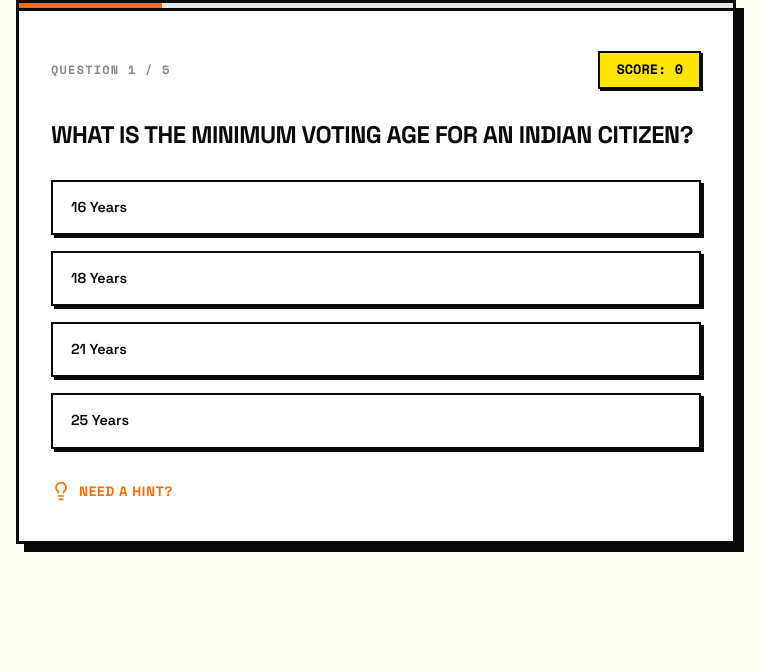
it: Quiz Component — Hint Feature › requests and displays a hint
What coordinates should you click on to do the following:
click the button "NEED A HINT?"
I would click on:
 (112, 491)
Its box is [51, 480, 173, 502].
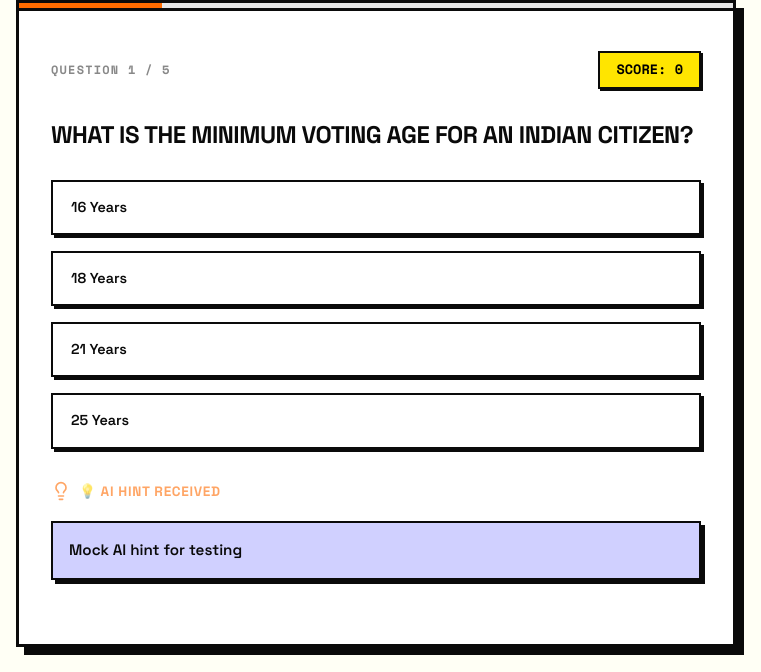
Check: the button "💡 AI HINT RECEIVED" is shown, box [51, 480, 221, 502]
Check: the text "Mock AI hint for testing" is shown, box [51, 521, 701, 580]
